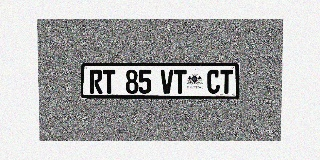5: (139, 70, 151, 94)
8: (125, 70, 138, 94)
C: (207, 70, 220, 94)
R: (89, 70, 102, 94)
T: (220, 70, 233, 94), (103, 70, 115, 94), (174, 70, 186, 94)
V: (160, 70, 173, 94)
